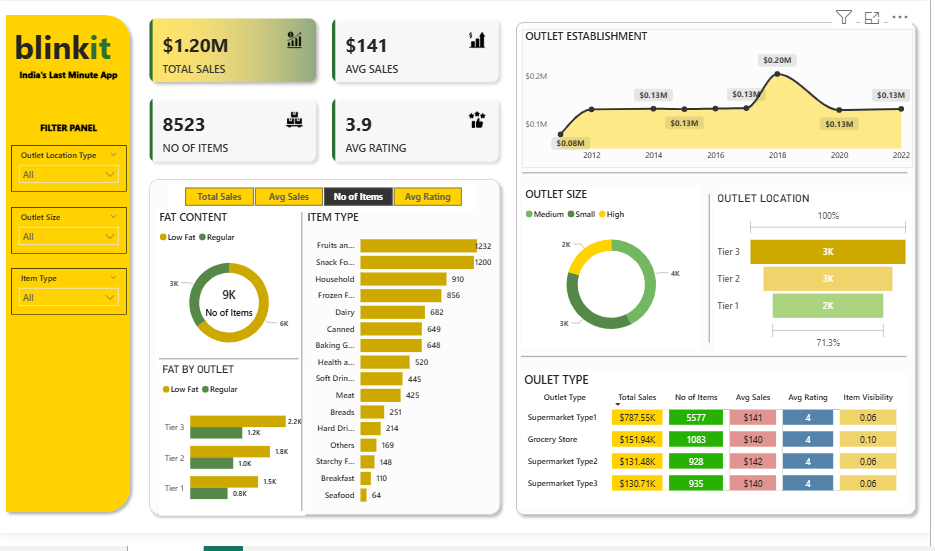

The dashboard page shown, as its layout file describes it:
{"tool":"powerbi","page":{"name":"Page 1","canvas":[1400,800],"ordinal":0},"visuals":[{"type":"shape","box":[768,22,620,760],"z":0},{"type":"donutChart","title":"FAT CONTENT","fields":{"Y":["BlinkIT Grocery Data.No of Items"],"Category":["BlinkIT Grocery Data.Item Fat Content"]},"box":[235,313.3,220,230],"z":0,"group":"g1"},{"type":"slicer","fields":{"Values":["Metrics.Metrics"]},"box":[252.9,273.3,466.2,40],"z":1000,"group":"g1"},{"type":"shape","box":[0,12.5,205,766.2],"z":1000},{"type":"textbox","box":[16.7,30,173.3,78.3],"z":2000},{"type":"cardVisual","fields":{"Data":["BlinkIT Grocery Data.No of Items"]},"box":[289,412.2,111.1,75.6],"z":2000,"group":"g1"},{"type":"textbox","box":[16.7,96.7,173.3,26.7],"z":3000},{"type":"clusteredBarChart","title":"FAT BY OUTLET","fields":{"Y":["BlinkIT Grocery Data.No of Items"],"Category":["BlinkIT Grocery Data.Outlet Location Type"],"Series":["BlinkIT Grocery Data.Item Fat Content"]},"box":[240,543.9,220,230],"z":3000,"group":"g1"},{"type":"cardVisual","fields":{"Data":["BlinkIT Grocery Data.Total Sales","BlinkIT Grocery Data.Avg Sales","BlinkIT Grocery Data.No of Items","BlinkIT Grocery Data.Avg Rating"]},"box":[208.3,8.3,560,250],"z":4000},{"type":"shape","box":[239.3,516.2,210,44.3],"z":4000,"group":"g1"},{"type":"shape","box":[435,317.6,38.6,450],"z":5000,"group":"g1"},{"type":"shape","box":[215,258.3,546.7,523.3],"z":5000},{"type":"barChart","title":"ITEM TYPE","fields":{"Y":["BlinkIT Grocery Data.No of Items"],"Category":["BlinkIT Grocery Data.Item Type"]},"box":[457.4,313.3,287.1,454.3],"z":6000,"group":"g1"},{"type":"shape","box":[1055,290,25,223.8],"z":6000},{"type":"group","id":"g1","title":"Group 1","box":[235,273.3,510,500],"z":7000},{"type":"donutChart","title":"OUTLET SIZE","fields":{"Y":["BlinkIT Grocery Data.No of Items"],"Category":["BlinkIT Grocery Data.Outlet Size"]},"box":[786.2,280,268.8,243.8],"z":8000},{"type":"lineChart","title":"OUTLET ESTABLISHMENT","fields":{"Category":["BlinkIT Grocery Data.Outlet Establishment Year"],"Y":["BlinkIT Grocery Data.Total Sales"]},"box":[785.6,42.2,588.9,208.9],"z":9000},{"type":"shape","box":[785.6,246.7,580,23.3],"z":10000},{"type":"funnel","title":"OUTLET LOCATION","fields":{"Y":["BlinkIT Grocery Data.No of Items"],"Category":["BlinkIT Grocery Data.Outlet Location Type"]},"box":[1075,286.7,298.3,243.3],"z":11000},{"type":"shape","box":[785,523.8,580,22.5],"z":12000},{"type":"pivotTable","title":"OULET TYPE","fields":{"Rows":["BlinkIT Grocery Data.Outlet Type"],"Values":["BlinkIT Grocery Data.Total Sales","BlinkIT Grocery Data.No of Items","BlinkIT Grocery Data.Avg Sales","BlinkIT Grocery Data.Avg Rating","Avg(BlinkIT Grocery Data.Item Visibility)"]},"box":[785,556.2,580,205],"z":13000},{"type":"slicer","fields":{"Values":["BlinkIT Grocery Data.Outlet Location Type"]},"box":[16.2,216.2,173.8,70],"z":14000},{"type":"slicer","fields":{"Values":["BlinkIT Grocery Data.Outlet Size"]},"box":[16.2,310,173.8,70],"z":15000},{"type":"slicer","fields":{"Values":["BlinkIT Grocery Data.Item Type"]},"box":[16.2,402.5,173.8,70],"z":16000},{"type":"textbox","box":[16.7,176.7,173.3,26.7],"z":17000}]}

Visuals, with their boxes on the page's 1400x800 design canvas (x1, y1, x2, y2). These are canvas units, not pixel positions in the 935x551 screenshot, which may show the page scaled, cropped or inside an application window:
shape: left=768, top=22, right=1388, bottom=782
"FAT CONTENT" donutChart: left=235, top=313, right=455, bottom=543
slicer - Metrics.Metrics: left=253, top=273, right=719, bottom=313
shape: left=0, top=12, right=205, bottom=779
textbox: left=17, top=30, right=190, bottom=108
cardVisual - BlinkIT Grocery Data.No of Items: left=289, top=412, right=400, bottom=488
textbox: left=17, top=97, right=190, bottom=123
"FAT BY OUTLET" clusteredBarChart: left=240, top=544, right=460, bottom=774
cardVisual - BlinkIT Grocery Data.Total Sales x BlinkIT Grocery Data.Avg Sales: left=208, top=8, right=768, bottom=258
shape: left=239, top=516, right=449, bottom=560
shape: left=435, top=318, right=474, bottom=768
shape: left=215, top=258, right=762, bottom=782
"ITEM TYPE" barChart: left=457, top=313, right=744, bottom=768
shape: left=1055, top=290, right=1080, bottom=514
"Group 1" group: left=235, top=273, right=745, bottom=773
"OUTLET SIZE" donutChart: left=786, top=280, right=1055, bottom=524
"OUTLET ESTABLISHMENT" lineChart: left=786, top=42, right=1374, bottom=251
shape: left=786, top=247, right=1366, bottom=270
"OUTLET LOCATION" funnel: left=1075, top=287, right=1373, bottom=530
shape: left=785, top=524, right=1365, bottom=546
"OULET TYPE" pivotTable: left=785, top=556, right=1365, bottom=761
slicer - BlinkIT Grocery Data.Outlet Location Type: left=16, top=216, right=190, bottom=286
slicer - BlinkIT Grocery Data.Outlet Size: left=16, top=310, right=190, bottom=380
slicer - BlinkIT Grocery Data.Item Type: left=16, top=402, right=190, bottom=472
textbox: left=17, top=177, right=190, bottom=203
